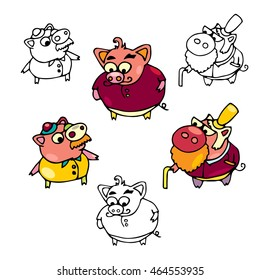animal: (161, 104, 249, 184), (91, 43, 174, 124), (182, 15, 255, 90), (32, 117, 92, 179), (100, 183, 162, 240), (26, 23, 81, 84)
